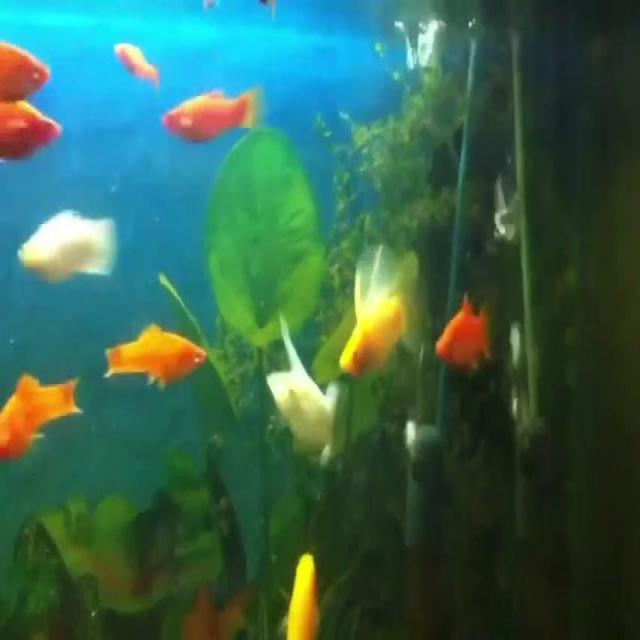PlatyFish: (335, 235, 421, 386), (99, 315, 220, 390), (430, 269, 496, 386), (156, 79, 264, 145)
